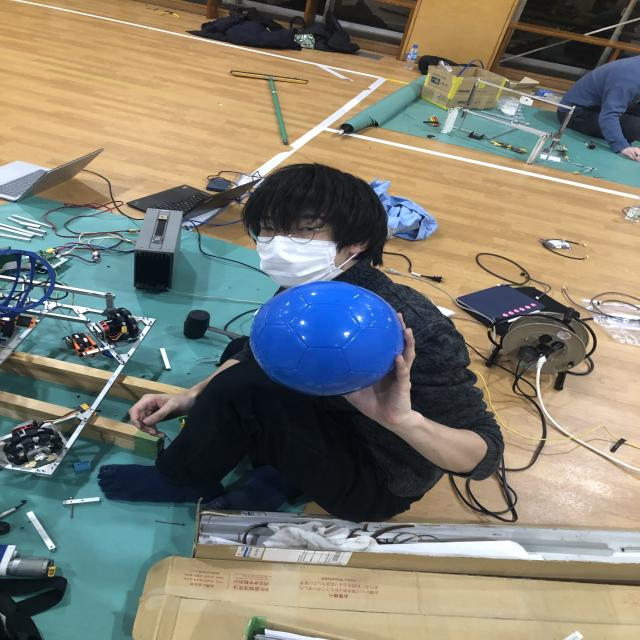blue_ball: (252, 284, 404, 396)
